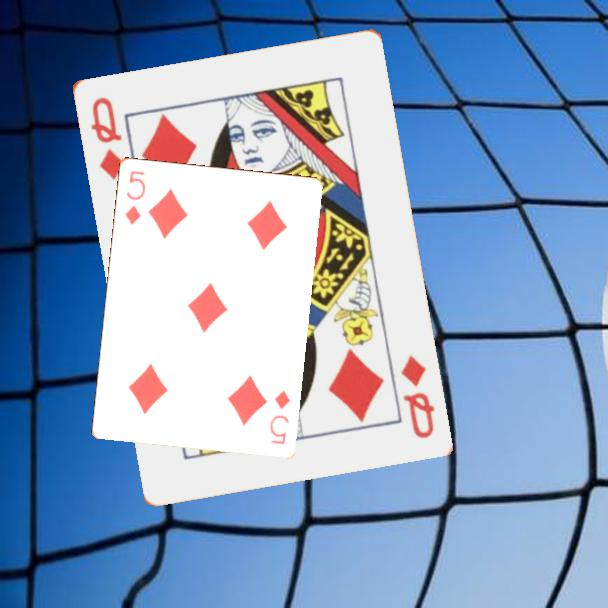d05: (266, 386, 293, 447), (121, 167, 148, 227)
d12: (86, 93, 127, 183), (396, 351, 437, 441)
